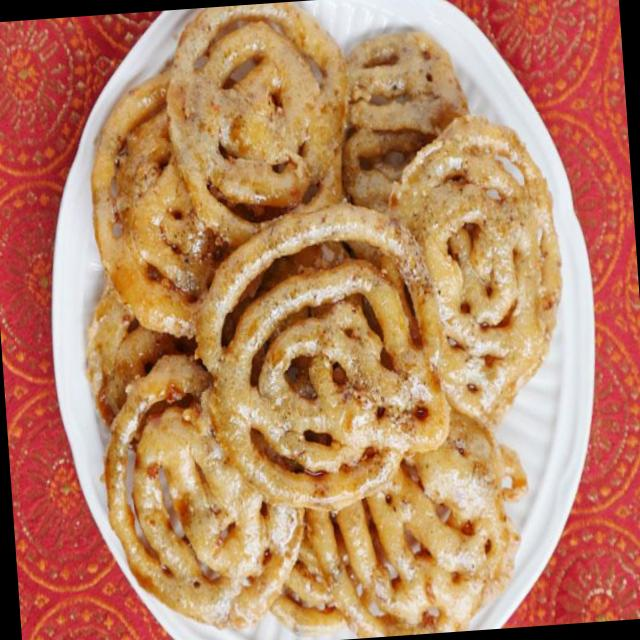jalebi: (73, 6, 581, 640)
